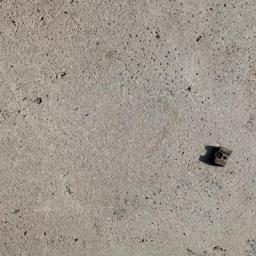FOD: (195, 143, 235, 170)
